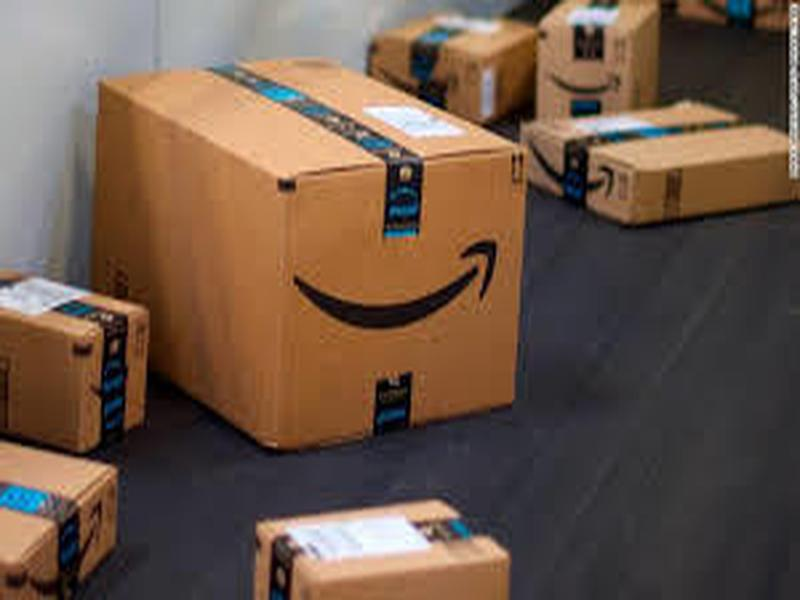package: (75, 45, 540, 462), (511, 84, 785, 241), (13, 247, 157, 458), (240, 485, 515, 588), (360, 14, 543, 131), (10, 426, 127, 585), (531, 13, 669, 116)
